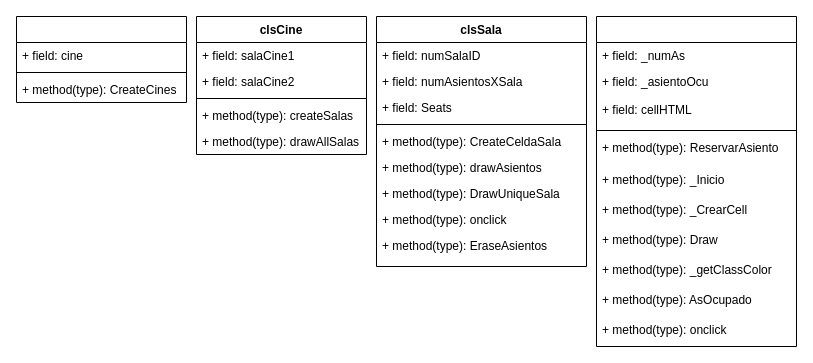
Some shapes in this 813 by 363 pixel diagram are drawn without their labels. Here are the shapes that lost their labels. From the top down, the box of each, then its label:
(16, 16, 186, 102): clsCinemaCompany
(596, 16, 796, 346): clsAsiento
